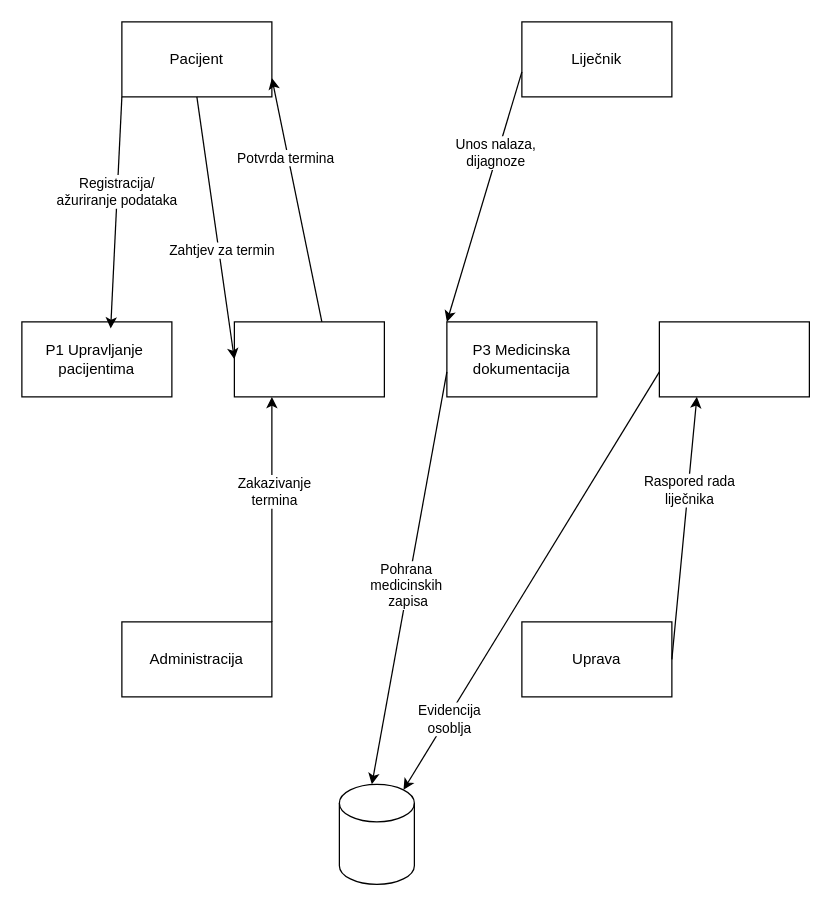
The diagram is 831 pixels wide and 906 high, and some of its shapes have lost their labels. The centre of each missing label's shape, as x and y in pixels:
"Baza podataka" belongs at [376,833].
"P2 Upravljanje terminima" belongs at [308,359].
"P4 Administracija sustava" belongs at [733,359].
